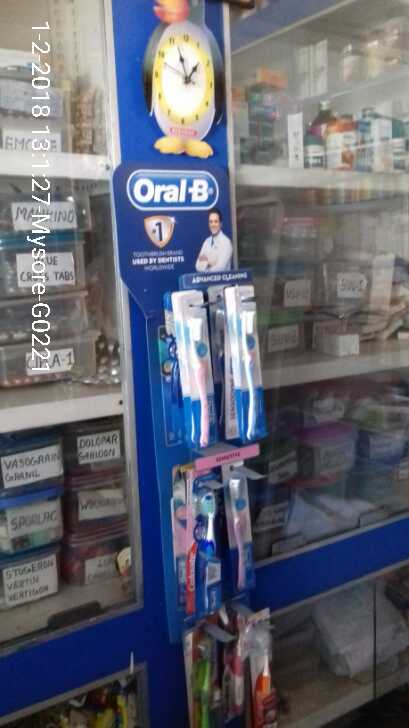oralb: (176, 300, 218, 441), (180, 490, 226, 618), (227, 299, 258, 440), (225, 473, 257, 592)
